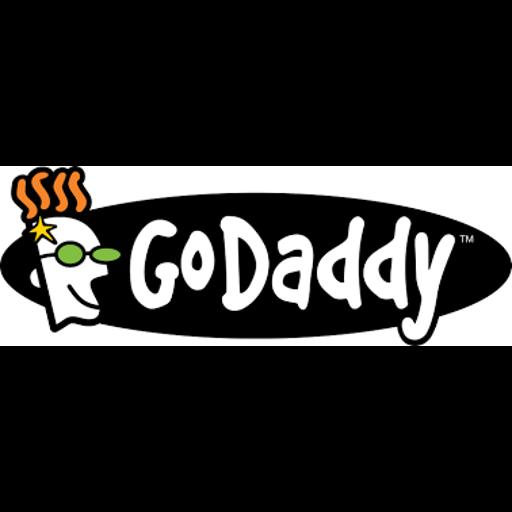GoDaddy: (0, 166, 512, 346)
